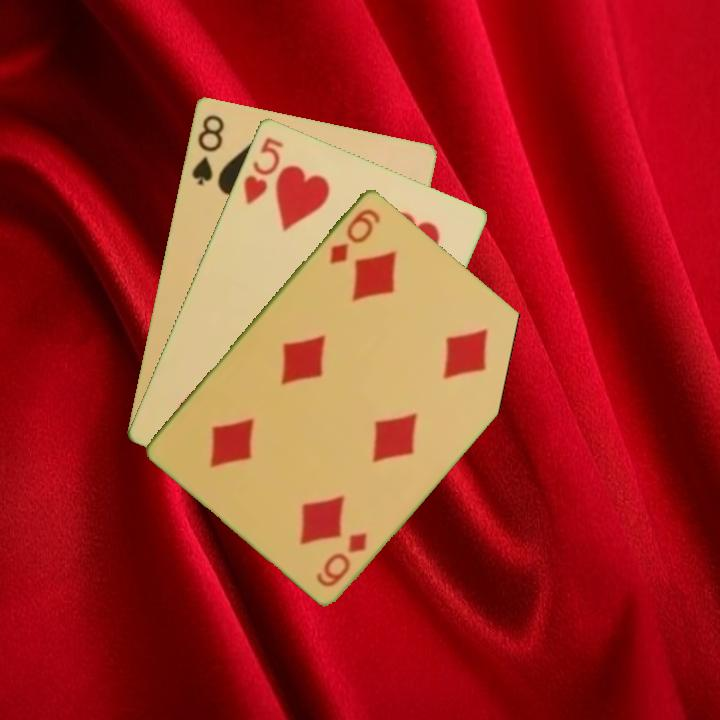5h: (239, 133, 286, 208)
6d: (312, 527, 371, 589), (325, 204, 383, 267)
8s: (187, 110, 227, 188)
